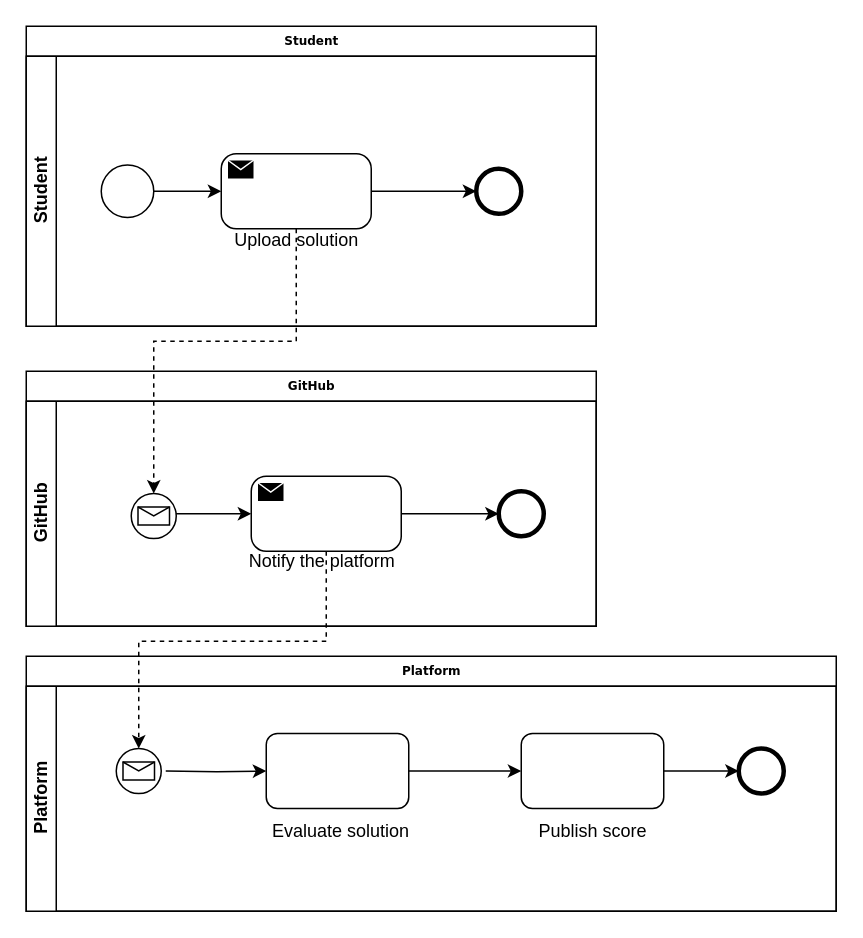
Image size: 863x938. Some labels were removed from this diagram. Here are the shapes that lost their labels. From the top down, the centre of each, then its label:
At pixel 153 515: "Receive solution".
At pixel 325 513: "GitHub Actions".
At pixel 138 770: "Receive upload notification".
